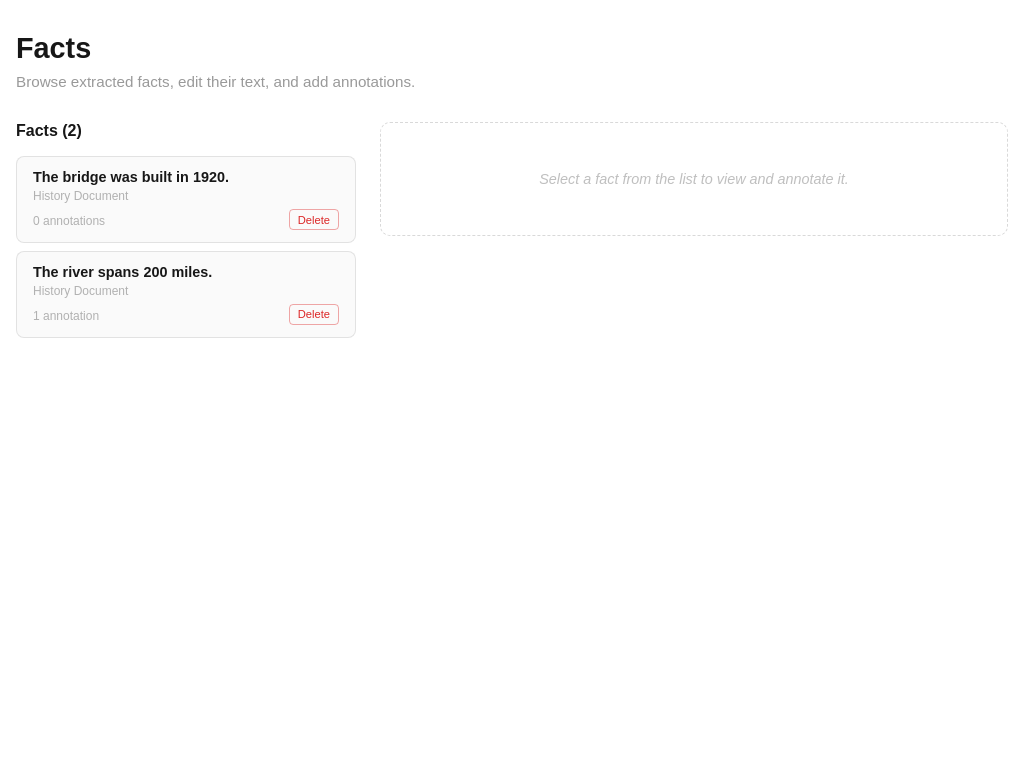
Test: FactsPage › updates the annotation panel in real-time after saving annotation
The image size is (1024, 768).
expect the text "The bridge was built in 1920." is shown: met, box [33,169,229,185]
Click the button with aria-label "select fact: the bridge was built in 1920". click: (131, 177)
box: [16,156,356,243]
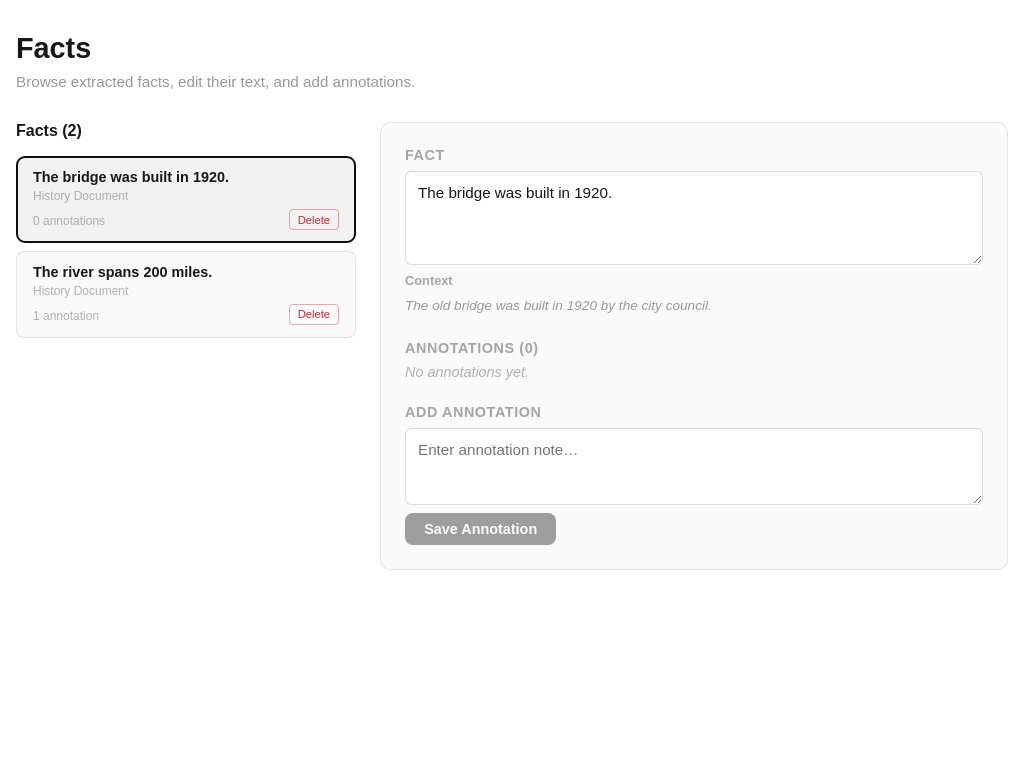
Type "New annotation" into the text box named "annotation text". click: (694, 467)
box: [405,428,983,505]
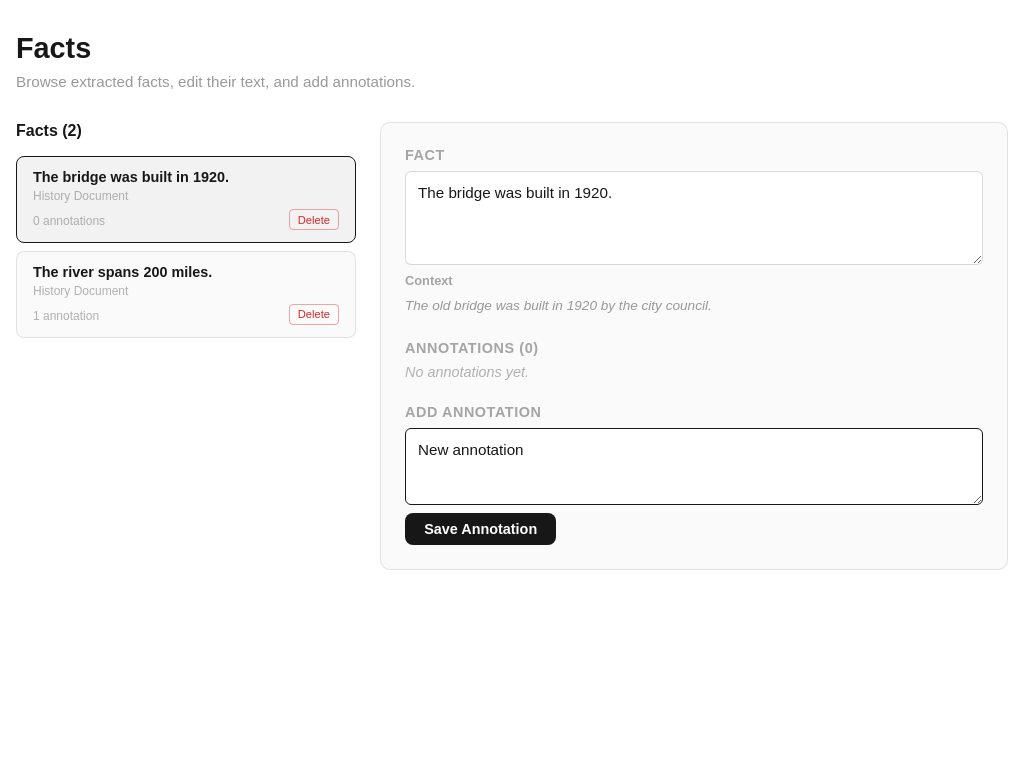
Click the button "Save Annotation". click: (481, 529)
box: [405,513,556,545]
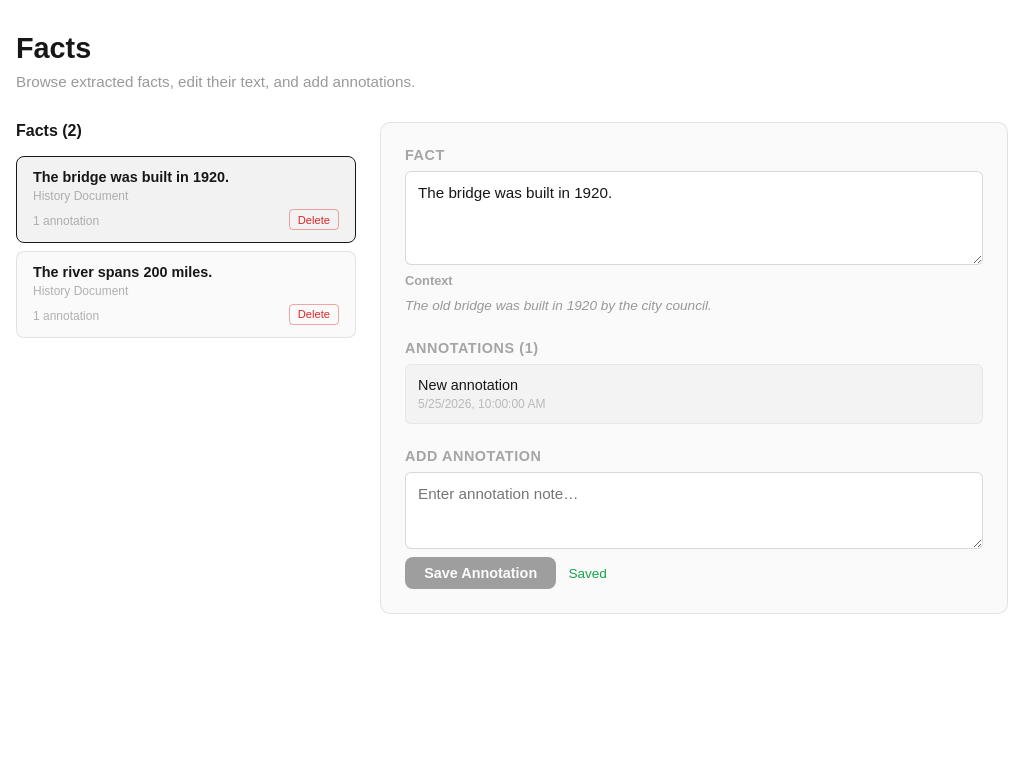
expect the text "New annotation" is shown: met, box [418,377,518,393]
